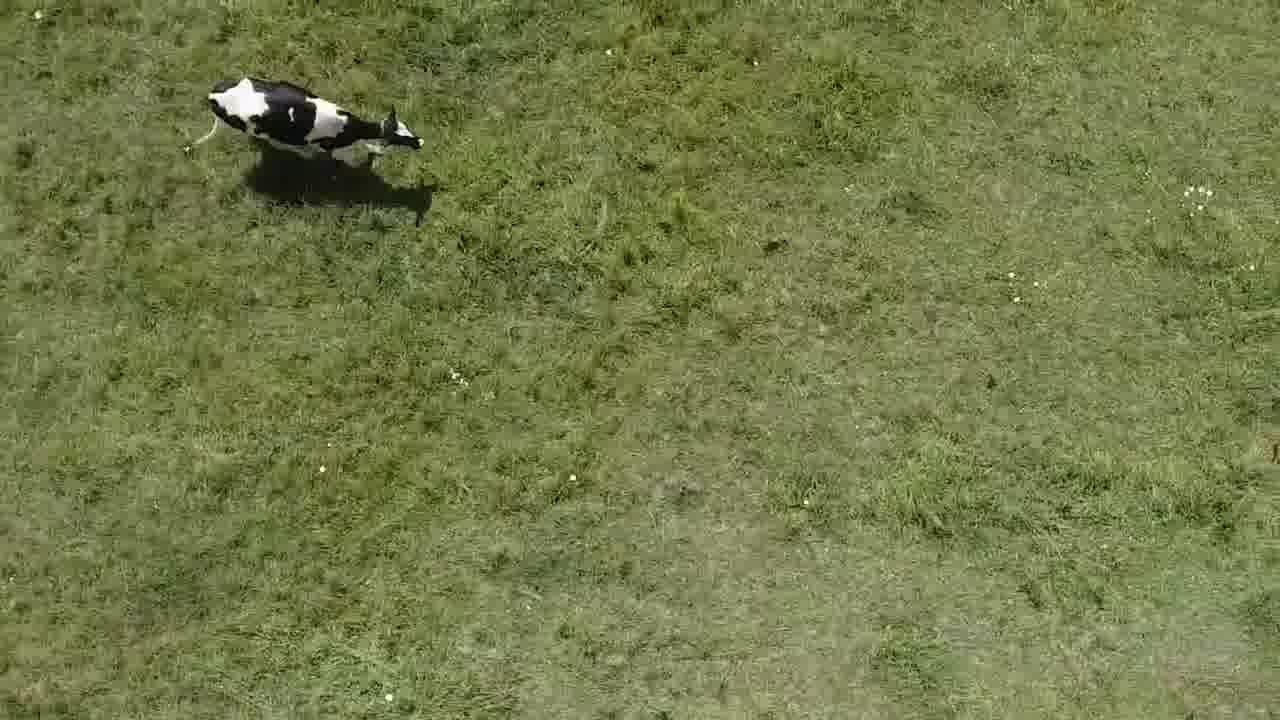cow: (191, 59, 431, 192)
